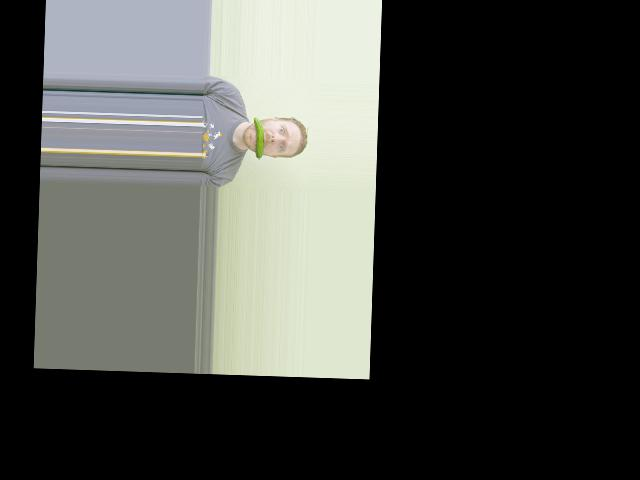cucumber: (252, 116, 264, 160)
